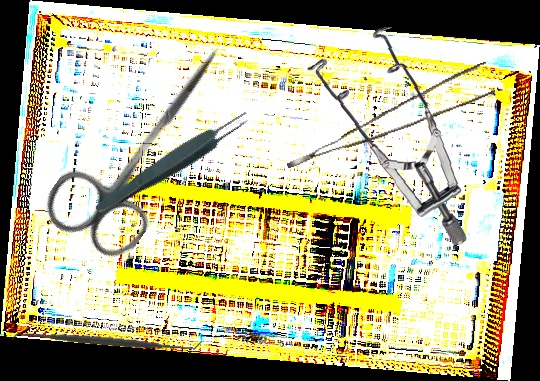Iris Scissors: (35, 16, 256, 271)
Spatula Surgical: (11, 322, 203, 360)
Speculum: (298, 22, 478, 246)
Tissue Forceps: (275, 61, 499, 169), (91, 105, 255, 221)
